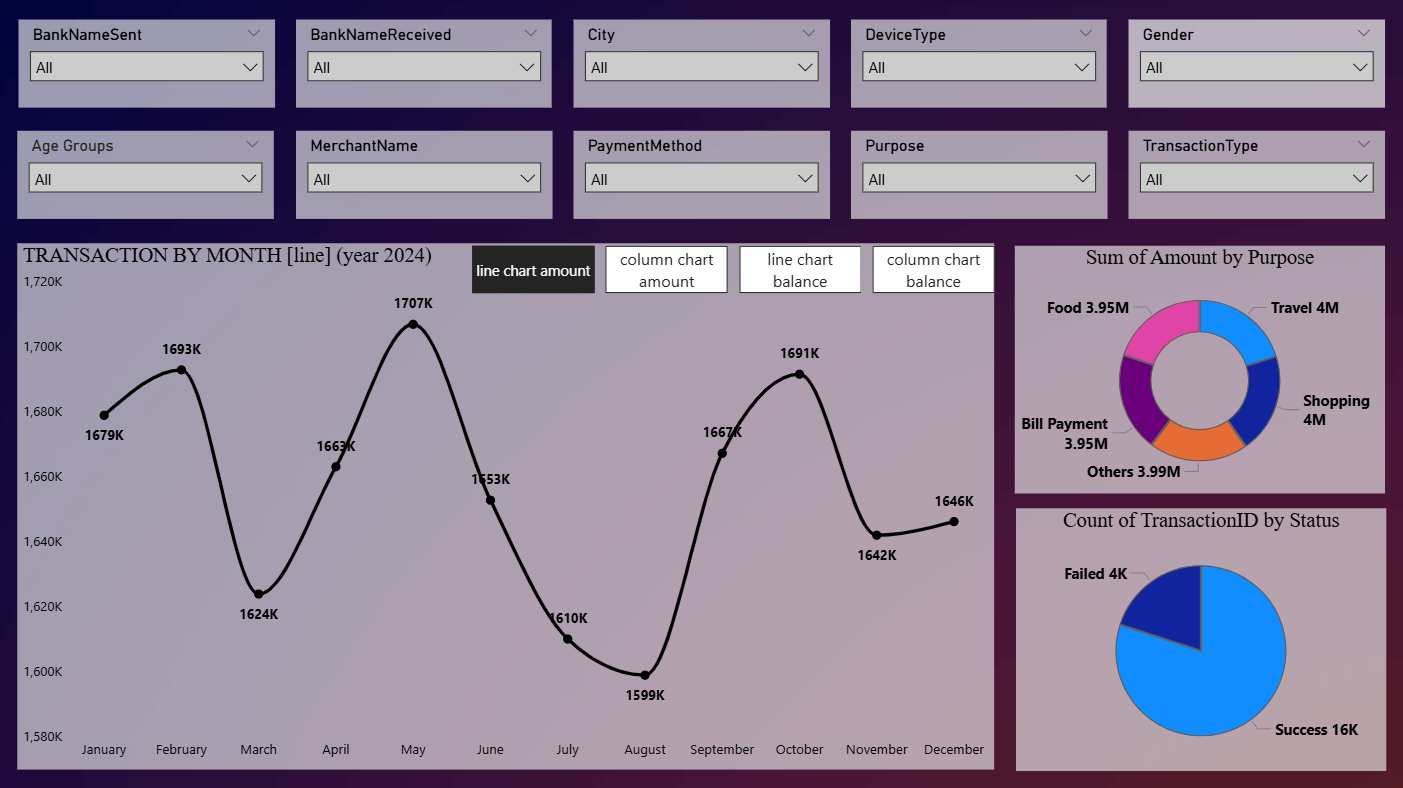

Layout of this report page (visuals, bound fields, positions):
{"tool":"powerbi","page":{"name":"Page 1","canvas":[1280,720],"ordinal":0},"visuals":[{"type":"slicer","fields":{"Values":["Transactions.BankNameSent"]},"box":[20,20.9,232.6,80.2],"z":0},{"type":"slicer","fields":{"Values":["Transactions.BankNameReceived"]},"box":[272,20,232,80],"z":1000},{"type":"slicer","fields":{"Values":["Transactions.City"]},"box":[524,20.9,232.6,80.2],"z":2000},{"type":"slicer","fields":{"Values":["Transactions.DeviceType"]},"box":[776,20,232,80.2],"z":3000},{"type":"slicer","fields":{"Values":["Transactions.Gender"]},"box":[1028,20,232.6,80.2],"z":4000},{"type":"slicer","fields":{"Values":["Transactions.Age Groups"]},"box":[19.8,120.9,232.6,80.2],"z":5000},{"type":"slicer","fields":{"Values":["Transactions.MerchantName"]},"box":[272.1,120.9,232.6,80.2],"z":6000},{"type":"slicer","fields":{"Values":["Transactions.PaymentMethod"]},"box":[524.4,120.9,232.6,80.2],"z":7000},{"type":"slicer","fields":{"Values":["Transactions.Purpose"]},"box":[775.6,120.9,232.6,80.2],"z":8000},{"type":"slicer","fields":{"Values":["Transactions.TransactionType"]},"box":[1027.9,120.9,232.6,80.2],"z":9000},{"type":"donutChart","fields":{"Y":["Sum(Transactions.Amount)"],"Category":["Transactions.Purpose"]},"box":[924.4,225.6,336,224.4],"z":11000},{"type":"pieChart","fields":{"Y":["CountNonNull(Transactions.TransactionID)"],"Category":["Transactions.Status"]},"box":[925.6,464,336,238.4],"z":12000},{"type":"columnChart","title":"BALANCE BY MONTH [column] (year 2024)","fields":{"Category":["Transactions.TransactionDate.Variation.Date Hierarchy.Month"],"Y":["Sum(Transactions.RemainingBalance)"]},"box":[20.2,225.6,886.4,477.2],"z":14000},{"type":"bookmarkNavigator","box":[432,225.9,474.2,43.4],"z":16500}]}

Visuals, with their boxes in screenshot pixels (x1, y1, x2, y2), scaled from the page's 1280x720 canvas onto the 1403x788 screenshot:
slicer - Transactions.BankNameSent: rect(22, 23, 277, 111)
slicer - Transactions.BankNameReceived: rect(298, 22, 552, 109)
slicer - Transactions.City: rect(574, 23, 829, 111)
slicer - Transactions.DeviceType: rect(851, 22, 1105, 110)
slicer - Transactions.Gender: rect(1127, 22, 1382, 110)
slicer - Transactions.Age Groups: rect(22, 132, 277, 220)
slicer - Transactions.MerchantName: rect(298, 132, 553, 220)
slicer - Transactions.PaymentMethod: rect(575, 132, 830, 220)
slicer - Transactions.Purpose: rect(850, 132, 1105, 220)
slicer - Transactions.TransactionType: rect(1127, 132, 1382, 220)
donutChart - Sum(Transactions.Amount) x Transactions.Purpose: rect(1013, 247, 1382, 493)
pieChart - CountNonNull(Transactions.TransactionID) x Transactions.Status: rect(1015, 508, 1383, 769)
"BALANCE BY MONTH [column] (year 2024)" columnChart: rect(22, 247, 994, 769)
bookmarkNavigator: rect(474, 247, 993, 295)
